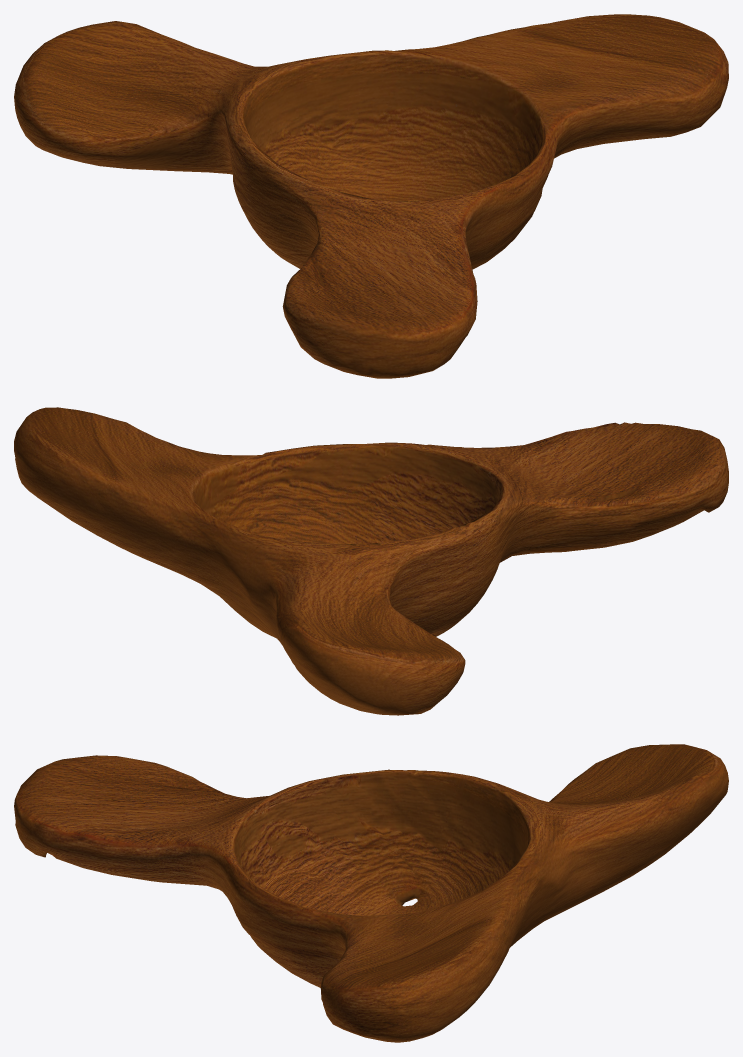
File: spiseredskap_13.glb
3 views of the same model, one above another, from view 1: azimuth 30°, elevation 25°; view 2: azimuth 150°, elevation 25°; view 3: azimuth 270°, elevation 25° (orthographic). The views are drawn at different scales.
Parts seen in each view (by area): view 1: tripo_node_7a7fb38c-fc5c-4129-a471-cfae6b011825; view 2: tripo_node_7a7fb38c-fc5c-4129-a471-cfae6b011825; view 3: tripo_node_7a7fb38c-fc5c-4129-a471-cfae6b011825.
Part boxes in pixels (x1,y1,x2,y2): tripo_node_7a7fb38c-fc5c-4129-a471-cfae6b011825: (14,14,728,378); tripo_node_7a7fb38c-fc5c-4129-a471-cfae6b011825: (14,407,728,715); tripo_node_7a7fb38c-fc5c-4129-a471-cfae6b011825: (14,744,728,1042).
Size of the model in its own units: 0.8754 by 0.2386 by 0.9796.
1 material, 1 textured.
